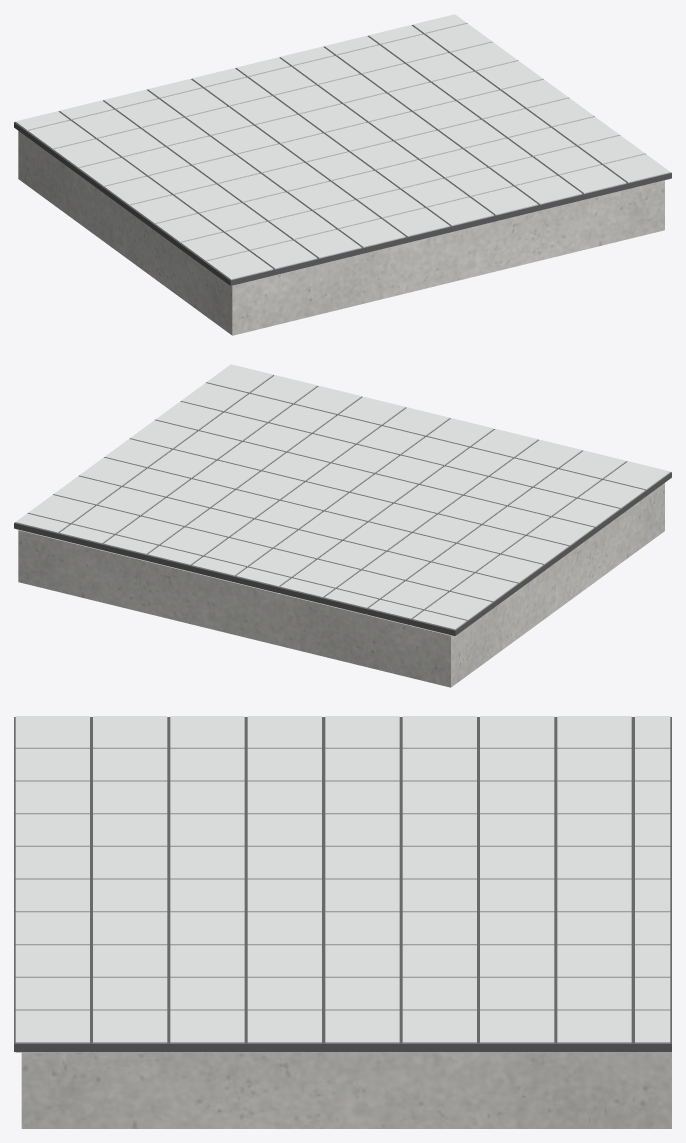
File: floor_wc_u_e0_0_30_0.glb
The picture shows the model from 3 angles, top to bottom: view 1: azimuth 30°, elevation 25°; view 2: azimuth 150°, elevation 25°; view 3: azimuth 270°, elevation 25°; orthographic projection. The views are drawn at different scales.
Visible parts, largest first — view 1: floor_wc_u_e0_0_30_0_tile, floor_wc_u_e0_0_30_0_plaster, floor_wc_u_e0_0_30_0_dark; view 2: floor_wc_u_e0_0_30_0_tile, floor_wc_u_e0_0_30_0_plaster, floor_wc_u_e0_0_30_0_dark; view 3: floor_wc_u_e0_0_30_0_tile, floor_wc_u_e0_0_30_0_plaster, floor_wc_u_e0_0_30_0_dark.
Boxes of the visible parts, x1,y1,x2,y2 form: floor_wc_u_e0_0_30_0_tile: [15, 14, 670, 285]; floor_wc_u_e0_0_30_0_plaster: [18, 131, 664, 335]; floor_wc_u_e0_0_30_0_dark: [14, 23, 671, 285]; floor_wc_u_e0_0_30_0_tile: [15, 364, 670, 635]; floor_wc_u_e0_0_30_0_plaster: [18, 483, 664, 687]; floor_wc_u_e0_0_30_0_dark: [14, 375, 671, 635]; floor_wc_u_e0_0_30_0_tile: [15, 716, 670, 1052]; floor_wc_u_e0_0_30_0_plaster: [21, 1052, 671, 1128]; floor_wc_u_e0_0_30_0_dark: [14, 717, 671, 1051].
Size of the model in its own units: 2 by 0.255 by 1.7.
Materials: 3 (1 with a texture image).
